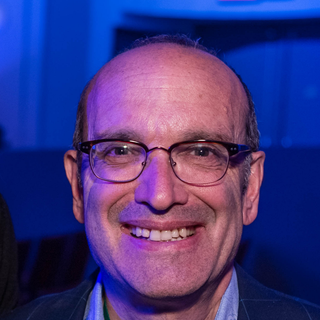eye: (182, 141, 224, 163), (101, 141, 141, 163)
